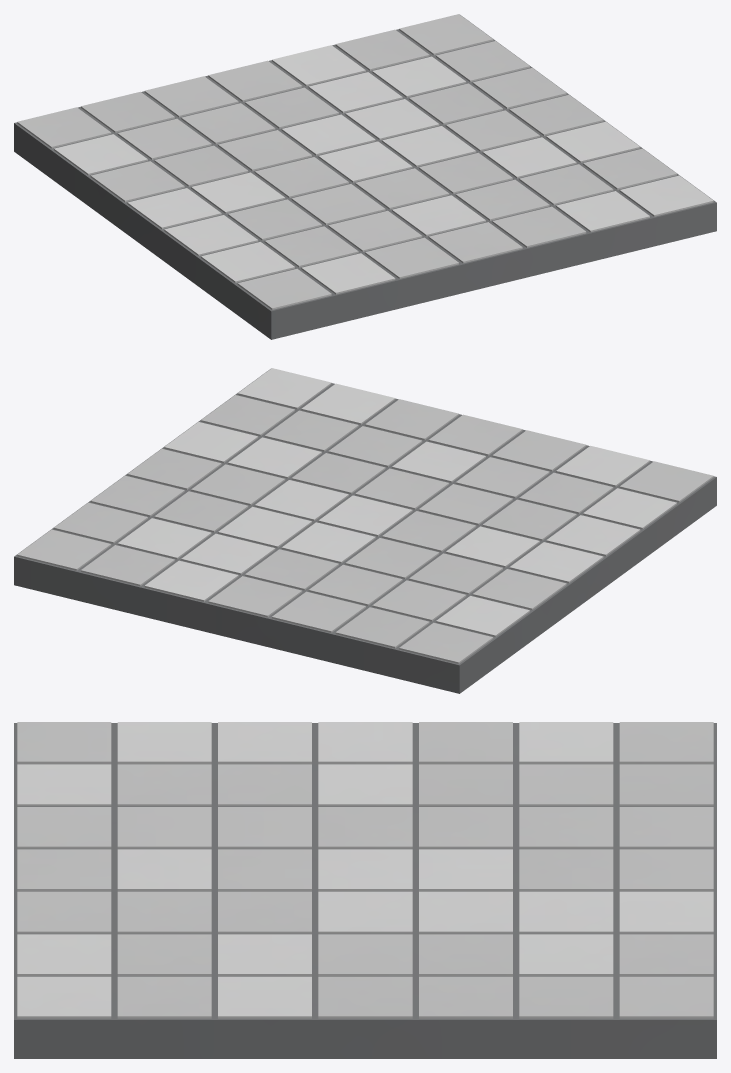
Rendered from tile_floor_1.glb.
3 views of the same model, one above another, from view 1: azimuth 30°, elevation 25°; view 2: azimuth 150°, elevation 25°; view 3: azimuth 270°, elevation 25° (orthographic). The views are drawn at different scales.
Parts seen in each view (by area): view 1: tile_floor_1; view 2: tile_floor_1; view 3: tile_floor_1.
Boxes of the visible parts, x1,y1,x2,y2 form: tile_floor_1: (14, 14, 716, 339); tile_floor_1: (14, 368, 716, 693); tile_floor_1: (14, 722, 716, 1058).
Size of the model in its own units: 2 by 0.1294 by 2.
1 material, 1 textured.
